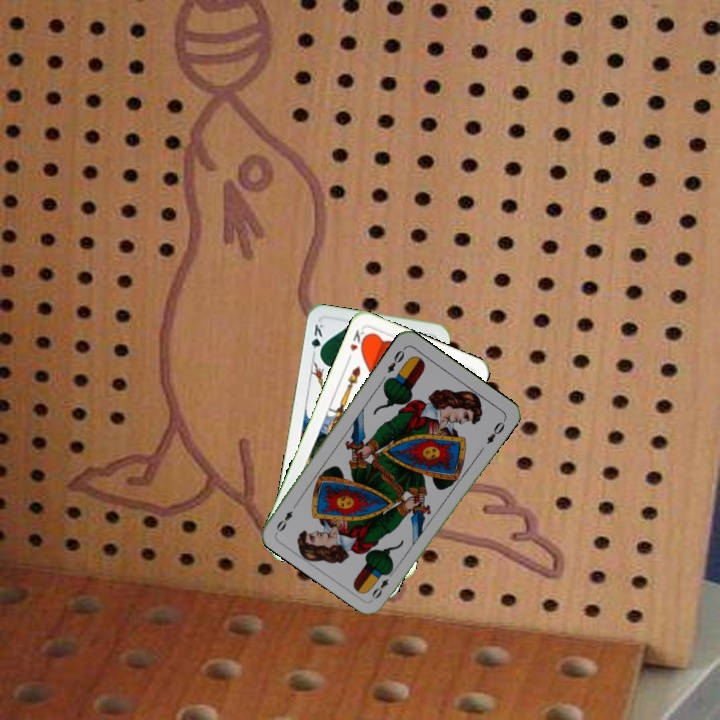EO: (368, 566, 397, 602), (383, 346, 407, 376)
GK: (307, 320, 326, 360)
HK: (343, 326, 371, 363)
